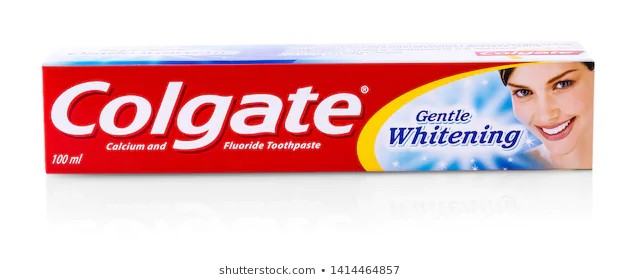colgate-small: (38, 56, 595, 174)
